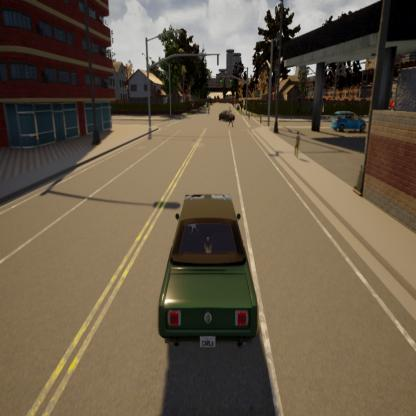Cars: (159, 195, 258, 350), (332, 111, 365, 132), (220, 108, 235, 123)
Pedestrian: (294, 128, 301, 160), (226, 107, 232, 129), (207, 102, 211, 115)
